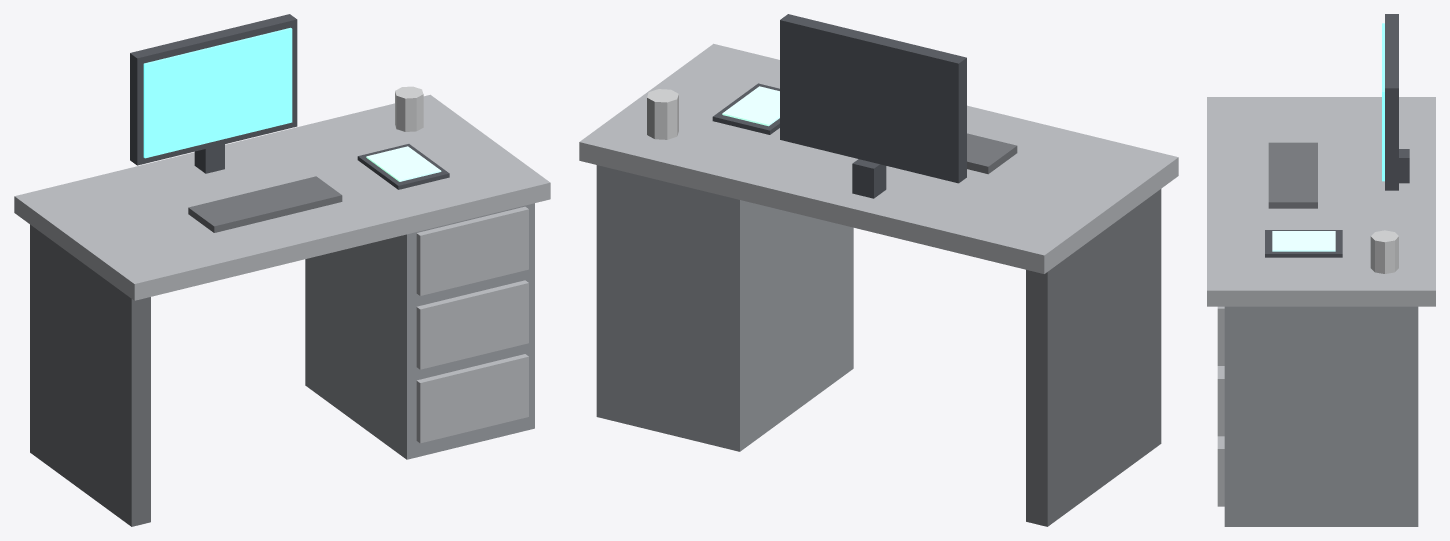
File: SM_Desk_Terminal.glb
3 renders of one model, left to right at view 1: azimuth 30°, elevation 25°; view 2: azimuth 150°, elevation 25°; view 3: azimuth 270°, elevation 25°, orthographic. The views are drawn at different scales.
Parts seen in each view (by area): view 1: SM_Desk_Terminal; view 2: SM_Desk_Terminal; view 3: SM_Desk_Terminal.
Part boxes in pixels (box(x1,y1,x2,y2)): SM_Desk_Terminal: box(14, 14, 550, 526); SM_Desk_Terminal: box(579, 14, 1178, 526); SM_Desk_Terminal: box(1207, 14, 1435, 526).
Size of the model in its own units: 1.3 by 1.15 by 0.65.
